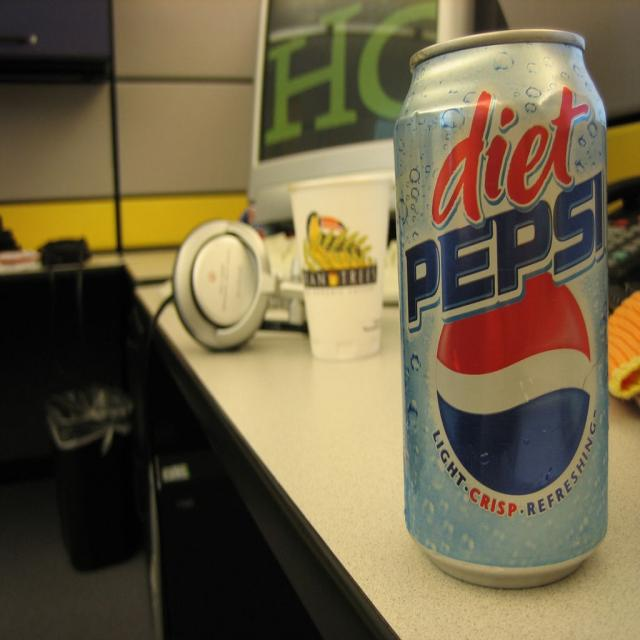pepsi: (431, 284, 599, 501)
